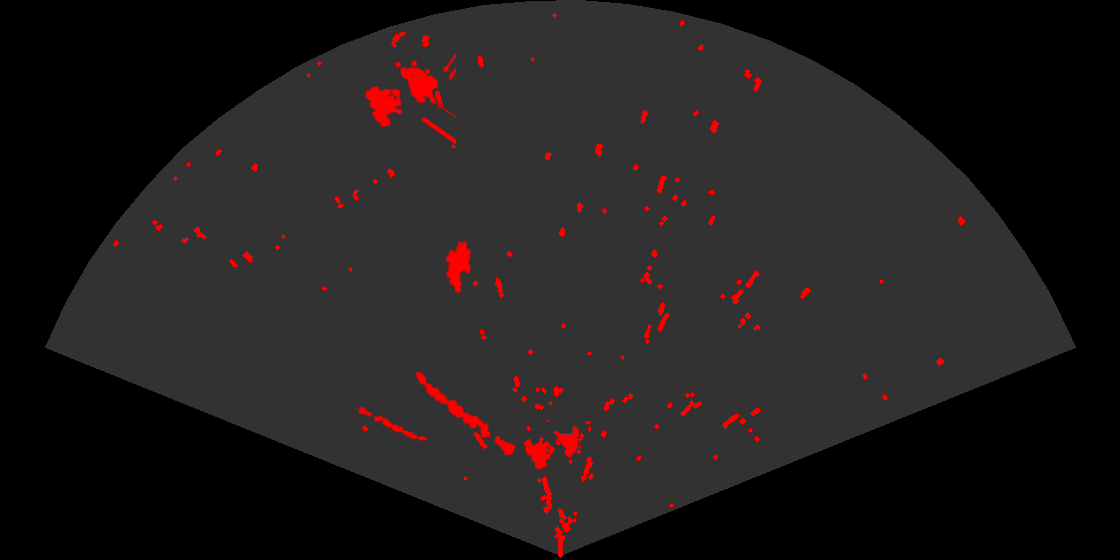AUV: (444, 239, 473, 295)
cage: (363, 52, 456, 146), (522, 420, 591, 471)
chain: (414, 370, 517, 458), (350, 403, 429, 443)
